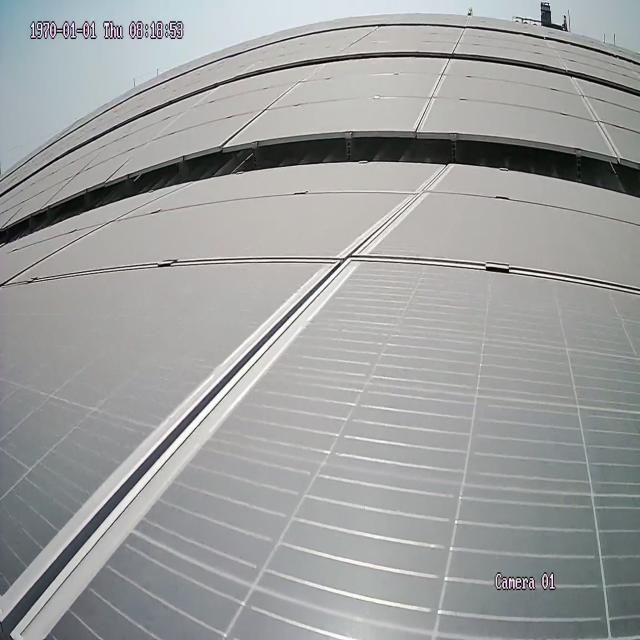interior panel: (3, 176, 634, 637), (227, 80, 310, 138), (567, 82, 623, 150), (415, 62, 449, 120)
outher panel: (0, 123, 638, 247)
